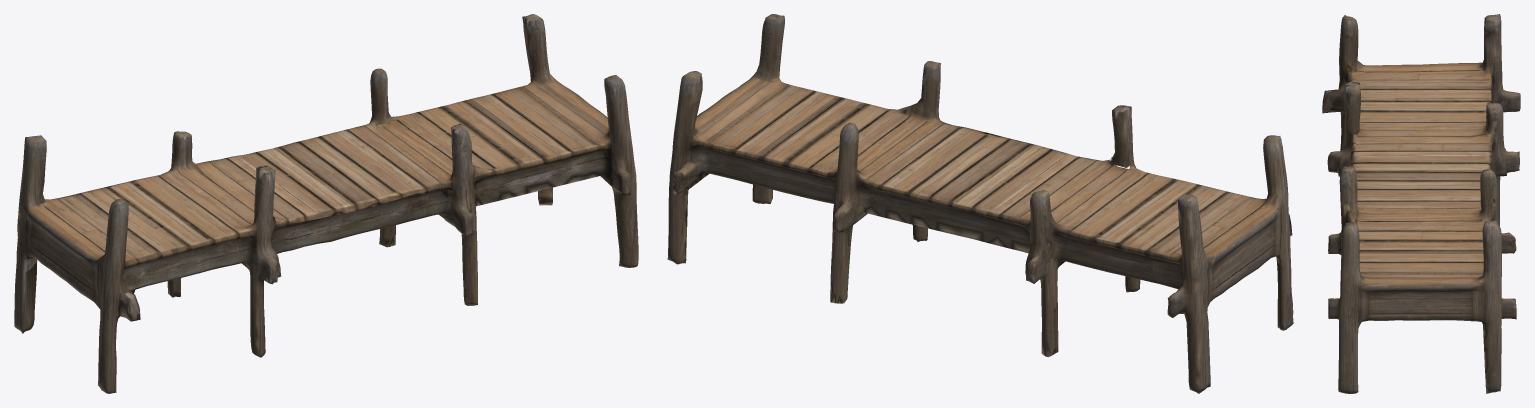
Rendered from pier.glb.
3 renders of one model, left to right at view 1: azimuth 30°, elevation 25°; view 2: azimuth 150°, elevation 25°; view 3: azimuth 270°, elevation 25°, orthographic. The views are drawn at different scales.
Parts seen in each view (by area): view 1: model; view 2: model; view 3: model.
Part boxes in pixels (x1,y1,x2,y2): model: [14, 14, 638, 393]; model: [667, 14, 1293, 393]; model: [1322, 14, 1520, 393].
Size of the model in its own units: 1.99 by 0.685 by 0.7468.
Materials: 1 (1 with a texture image).
